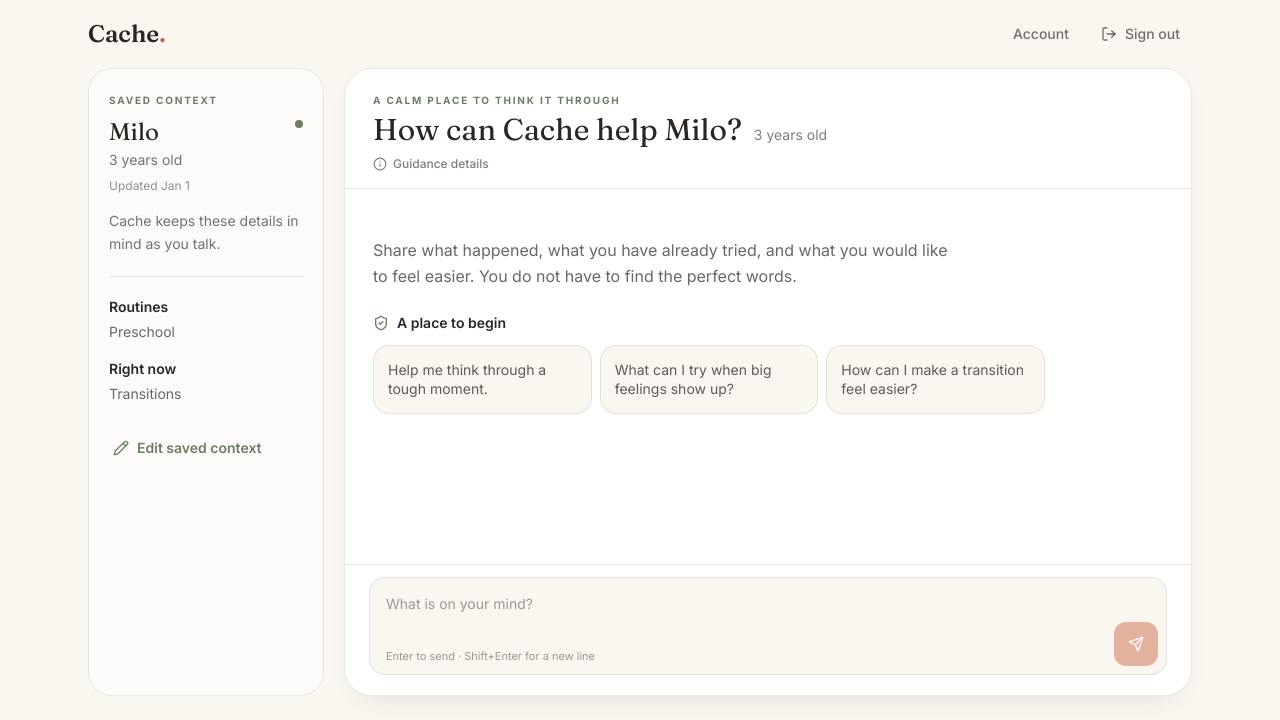
CacheApp › sends a composer draft with Enter and clears it after a successful response
In the text box named "Message Cache": [740, 614] box [378,586,1102,642], type "What should I try?"
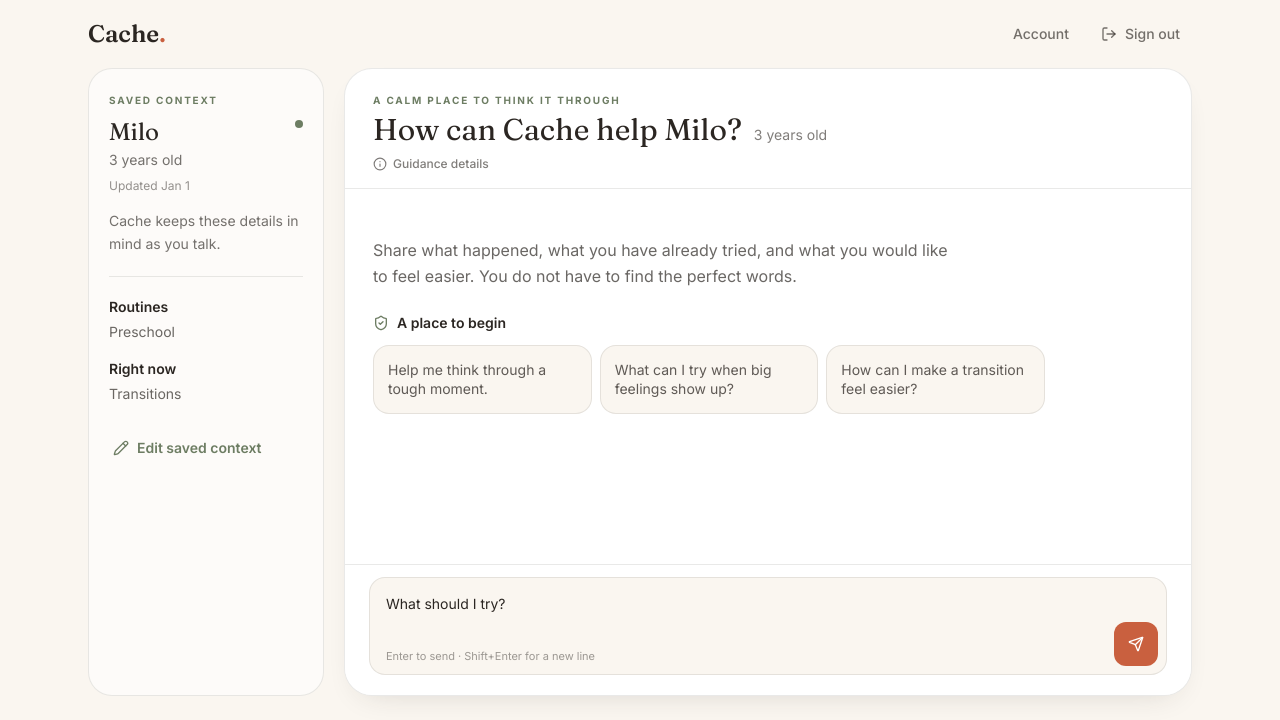
Press Enter in the text box named "Message Cache", box [378,586,1102,642]
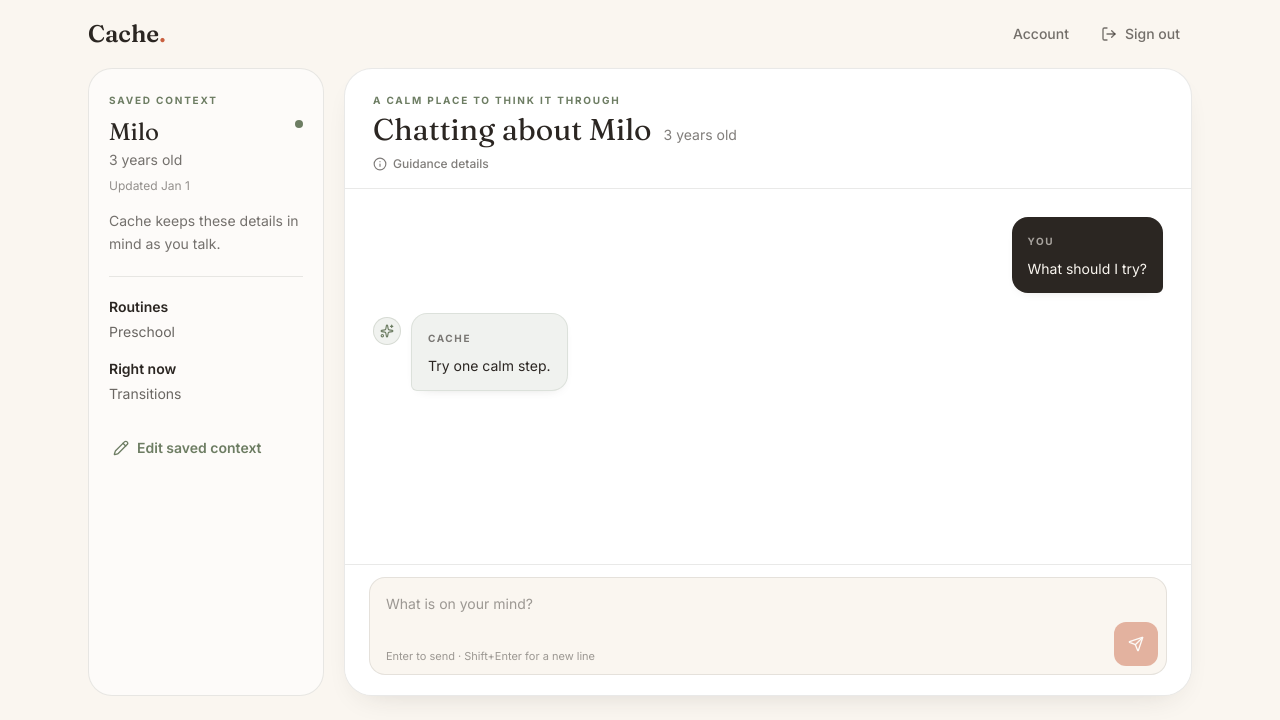
Result: the text "Try one calm step." is shown at [428,357,550,374]
Result: the text box named "Message Cache" is empty at [378,586,1102,642]
